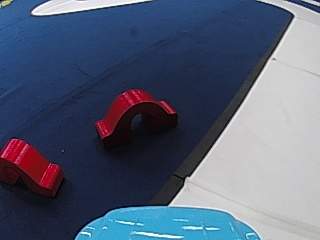bridge: (90, 85, 180, 144), (0, 135, 68, 199)
